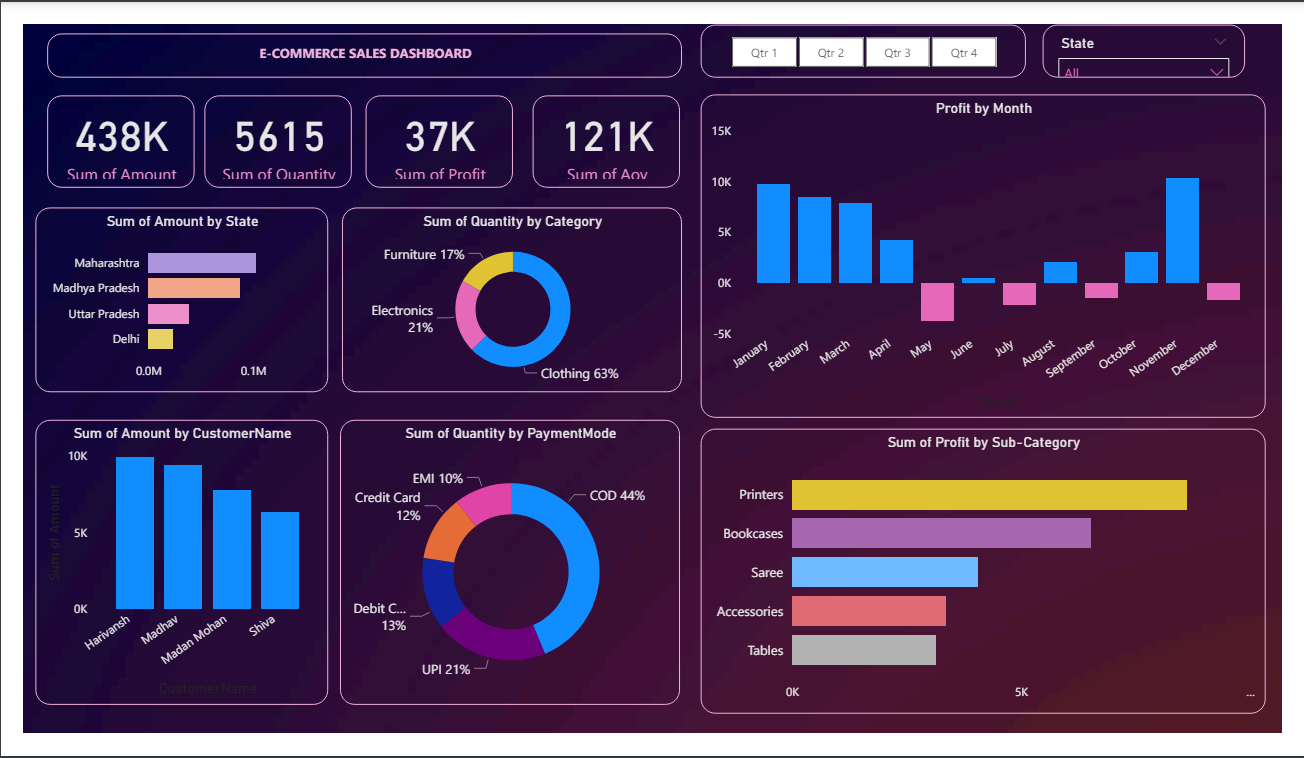

The page's visual inventory and layout, read from the dashboard file:
{"tool":"powerbi","page":{"name":"Page 1","canvas":[1280,720],"ordinal":0},"visuals":[{"type":"textbox","box":[24.3,8.6,645.7,45.7],"z":0},{"type":"columnChart","title":"Profit by Month","fields":{"Y":["Details.Profit"],"Category":["Orders.Order Date.Variation.Date Hierarchy.Month"]},"box":[688.6,71.4,575.7,328.6],"z":1000},{"type":"barChart","fields":{"Category":["Details.Sub-Category"],"Y":["Details.Profit"]},"box":[688.6,411.4,575.7,290],"z":2000},{"type":"donutChart","fields":{"Category":["Details.Category"],"Y":["Details.Quantity"]},"box":[324.3,186.1,346,188],"z":3000},{"type":"donutChart","fields":{"Category":["Details.PaymentMode"],"Y":["Details.Quantity"]},"box":[322.3,402.1,346,290],"z":4000},{"type":"card","fields":{"Values":["Details.Amount"]},"box":[24.3,72.1,150,94],"z":5000},{"type":"card","fields":{"Values":["Details.Quantity"]},"box":[184.3,72.1,150,94],"z":6000},{"type":"card","fields":{"Values":["Details.Profit"]},"box":[348.3,72.1,150,94],"z":7000},{"type":"card","fields":{"Values":["Details.Aov"]},"box":[518.3,72.1,150,94],"z":8000},{"type":"barChart","fields":{"Category":["Orders.State"],"Y":["Details.Amount"]},"box":[12.3,186.1,298,188],"z":9000},{"type":"columnChart","fields":{"Category":["Orders.CustomerName"],"Y":["Details.Amount"]},"box":[12.3,402.1,298,290],"z":10000},{"type":"slicer","fields":{"Values":["Orders.Order Date.Variation.Date Hierarchy.Quarter"]},"box":[688.6,0,331.4,54.3],"z":11000},{"type":"slicer","fields":{"Values":["Orders.State"]},"box":[1037.1,0,205.7,54.3],"z":12000}]}

Visuals, with their boxes in screenshot pixels (x1, y1, x2, y2):
textbox: pyautogui.locateOnScreen(31, 29, 680, 75)
"Profit by Month" columnChart: pyautogui.locateOnScreen(699, 92, 1277, 422)
barChart - Details.Sub-Category x Details.Profit: pyautogui.locateOnScreen(699, 434, 1277, 725)
donutChart - Details.Category x Details.Quantity: pyautogui.locateOnScreen(333, 207, 680, 396)
donutChart - Details.PaymentMode x Details.Quantity: pyautogui.locateOnScreen(331, 424, 678, 716)
card - Details.Amount: pyautogui.locateOnScreen(31, 93, 182, 187)
card - Details.Quantity: pyautogui.locateOnScreen(192, 93, 343, 187)
card - Details.Profit: pyautogui.locateOnScreen(357, 93, 507, 187)
card - Details.Aov: pyautogui.locateOnScreen(528, 93, 678, 187)
barChart - Orders.State x Details.Amount: pyautogui.locateOnScreen(19, 207, 319, 396)
columnChart - Orders.CustomerName x Details.Amount: pyautogui.locateOnScreen(19, 424, 319, 716)
slicer - Orders.Order Date.Variation.Date Hierarchy.Quarter: pyautogui.locateOnScreen(699, 20, 1032, 75)
slicer - Orders.State: pyautogui.locateOnScreen(1049, 20, 1255, 75)
